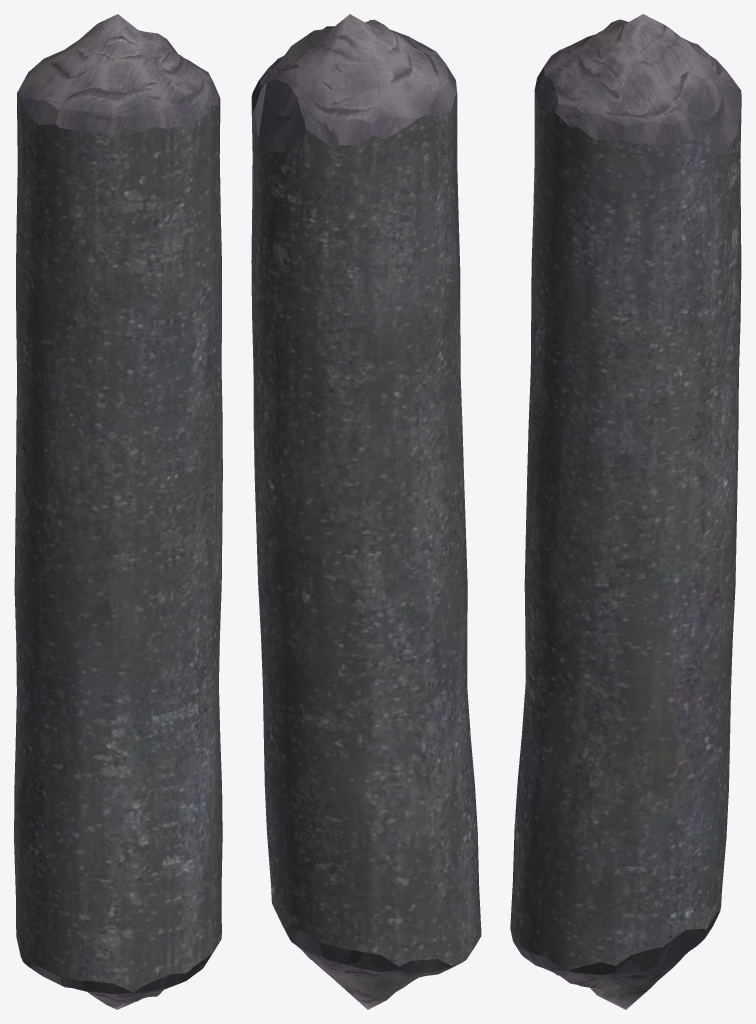
The picture shows the model from 3 angles, left to right: view 1: azimuth 30°, elevation 25°; view 2: azimuth 150°, elevation 25°; view 3: azimuth 270°, elevation 25°; orthographic projection.
Visible parts, largest first — view 1: SM_FH_Ash_Tree_03_quarter_02_LOD0; view 2: SM_FH_Ash_Tree_03_quarter_02_LOD0; view 3: SM_FH_Ash_Tree_03_quarter_02_LOD0.
Part boxes in pixels (x1,y1,x2,y2): SM_FH_Ash_Tree_03_quarter_02_LOD0: (14, 14, 222, 1009); SM_FH_Ash_Tree_03_quarter_02_LOD0: (251, 14, 481, 1009); SM_FH_Ash_Tree_03_quarter_02_LOD0: (510, 14, 741, 1009).
Bounding box in the file's own units: 0.4907 × 2.46 × 0.5163.
Materials: 1 (1 with a texture image).
